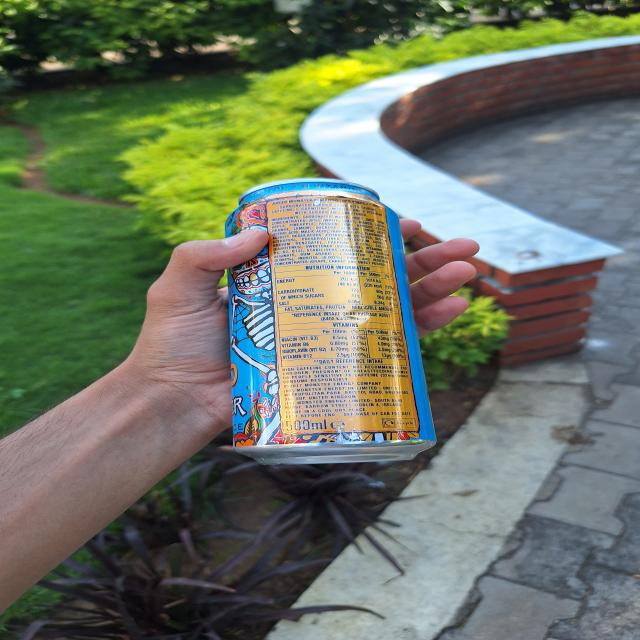Monster Mango Loco: (228, 186, 428, 461)
